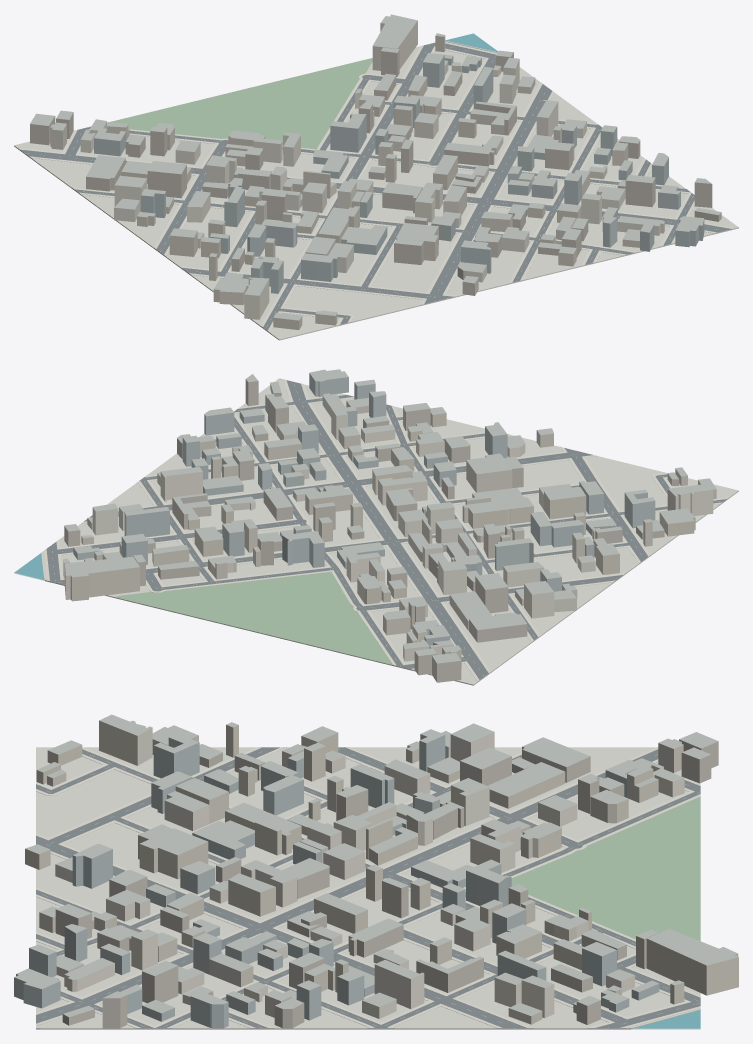
3 views of the same model, one above another, from view 1: azimuth 30°, elevation 25°; view 2: azimuth 150°, elevation 25°; view 3: azimuth 270°, elevation 25° (orthographic). The views are drawn at different scales.
Parts seen in each view (by area): view 1: city; view 2: city; view 3: city.
Boxes of the visible parts, left/top/right/bottom form: city: left=14, top=14, right=738, bottom=340; city: left=14, top=369, right=738, bottom=685; city: left=14, top=714, right=738, bottom=1029.
Bounding box in the file's own units: 512 × 26 × 545.
